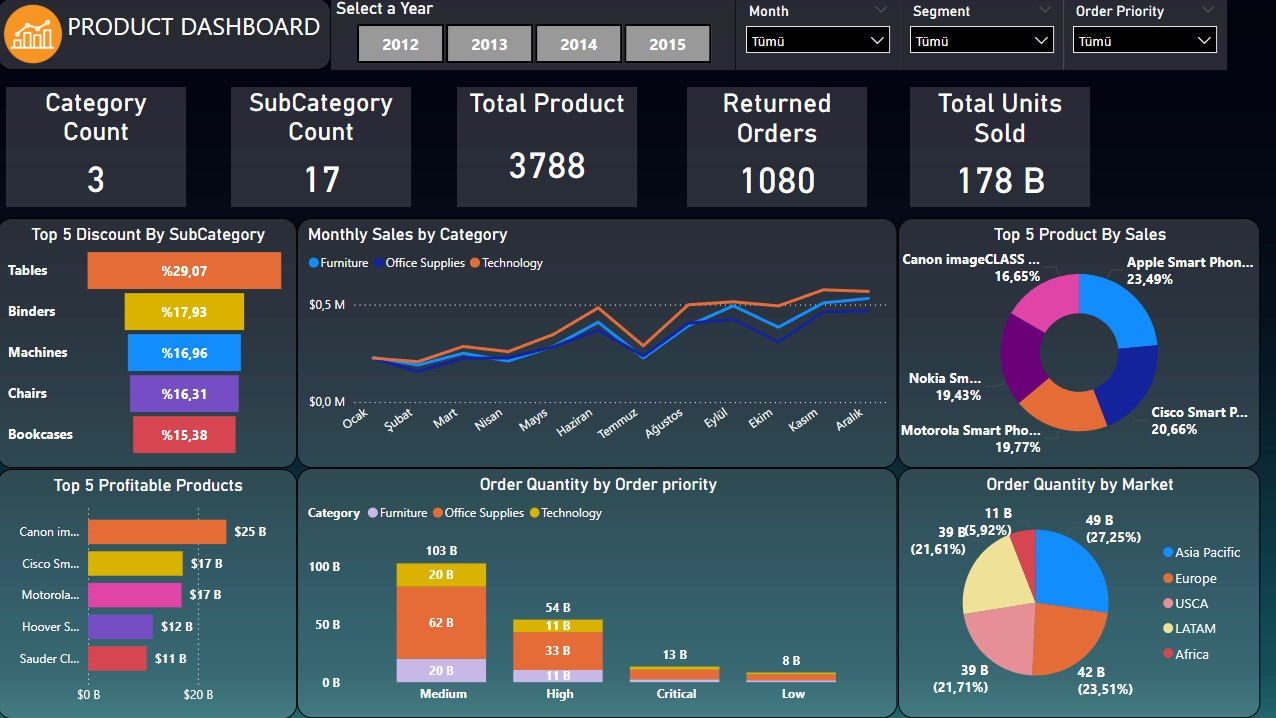

This screenshot's page, from the dashboard's own definition file:
{"tool":"powerbi","page":{"name":"Product Dashboard","canvas":[1280,720],"ordinal":1},"visuals":[{"type":"textbox","box":[0,0,334,72],"z":0},{"type":"slicer","fields":{"Values":["Orders.Segment"]},"box":[902,0,164,72],"z":1000},{"type":"slicer","fields":{"Values":["Orders.Order Date.Varyasyon.Tarih Hiyerarşisi.Ay"]},"box":[738,0,164,72],"z":2000},{"type":"slicer","fields":{"Values":["Orders.Order Priority"]},"box":[1065.7,0,164,72.5],"z":3000},{"type":"pieChart","title":"Order Quantity by Market","fields":{"Category":["Orders.Market"],"Y":["Olculer.Total Qty's Sold"]},"box":[900,470,362,250],"z":5000},{"type":"funnel","title":"Top 5 Discount By SubCategory","fields":{"Category":["Orders.Sub-Category"],"Y":["Olculer.Average Discount"]},"box":[0,220,300,250],"z":6000},{"type":"donutChart","title":"Top 5 Product By Sales","fields":{"Y":["Olculer.TotalSales"],"Category":["Orders.Product Name"]},"box":[900,220,362,250],"z":7000},{"type":"slicer","title":"Select a Year","fields":{"Values":["Orders.Order Date.Varyasyon.Tarih Hiyerarşisi.Yıl"]},"box":[334,0,404,72],"z":8000},{"type":"image","box":[0,0,72,72],"z":9000},{"type":"card","title":"Category Count","fields":{"Values":["Olculer.Total Category"]},"box":[9,89,180,120],"z":10000},{"type":"card","title":"Total Product","fields":{"Values":["Olculer.Total Product"]},"box":[460,89,180,120],"z":11000},{"type":"card","title":"Returned Orders","fields":{"Values":["Olculer.ReturnedOrders"]},"box":[689,89,180,120],"z":12000},{"type":"card","title":"SubCategory Count","fields":{"Values":["Olculer.TotalSubCategory"]},"box":[234,89,180,120],"z":13000},{"type":"card","title":"Total Units Sold","fields":{"Values":["Olculer.Total Qty's Sold"]},"box":[912,89,180,120],"z":14000},{"type":"lineChart","title":"Monthly Sales by Category","fields":{"Y":["Olculer.TotalSales"],"Category":["Orders.Order Date.Varyasyon.Tarih Hiyerarşisi.Ay"],"Series":["Orders.Category"]},"box":[300,220,600,250],"z":15000},{"type":"columnChart","title":"Order Quantity by Order priority","fields":{"Category":["Orders.Order Priority"],"Series":["Orders.Category"],"Y":["Olculer.Total Qty's Sold"]},"box":[300,470,600,250],"z":16000},{"type":"barChart","title":"Top 5 Profitable Products","fields":{"Category":["Orders.Product Name"],"Y":["Olculer.Total Profit"]},"box":[0,470.2,300,250],"z":18001}]}

Visuals, with their boxes in screenshot pixels (x1, y1, x2, y2), scaled from the page's 1280x720 canvas onto the 1276x718 screenshot:
textbox: left=0, top=0, right=333, bottom=72
slicer - Orders.Segment: left=899, top=0, right=1063, bottom=72
slicer - Orders.Order Date.Varyasyon.Tarih Hiyerarşisi.Ay: left=736, top=0, right=899, bottom=72
slicer - Orders.Order Priority: left=1062, top=0, right=1226, bottom=72
"Order Quantity by Market" pieChart: left=897, top=469, right=1258, bottom=717
"Top 5 Discount By SubCategory" funnel: left=0, top=219, right=299, bottom=469
"Top 5 Product By Sales" donutChart: left=897, top=219, right=1258, bottom=469
"Select a Year" slicer: left=333, top=0, right=736, bottom=72
image: left=0, top=0, right=72, bottom=72
"Category Count" card: left=9, top=89, right=188, bottom=208
"Total Product" card: left=459, top=89, right=638, bottom=208
"Returned Orders" card: left=687, top=89, right=866, bottom=208
"SubCategory Count" card: left=233, top=89, right=413, bottom=208
"Total Units Sold" card: left=909, top=89, right=1089, bottom=208
"Monthly Sales by Category" lineChart: left=299, top=219, right=897, bottom=469
"Order Quantity by Order priority" columnChart: left=299, top=469, right=897, bottom=717
"Top 5 Profitable Products" barChart: left=0, top=469, right=299, bottom=717
